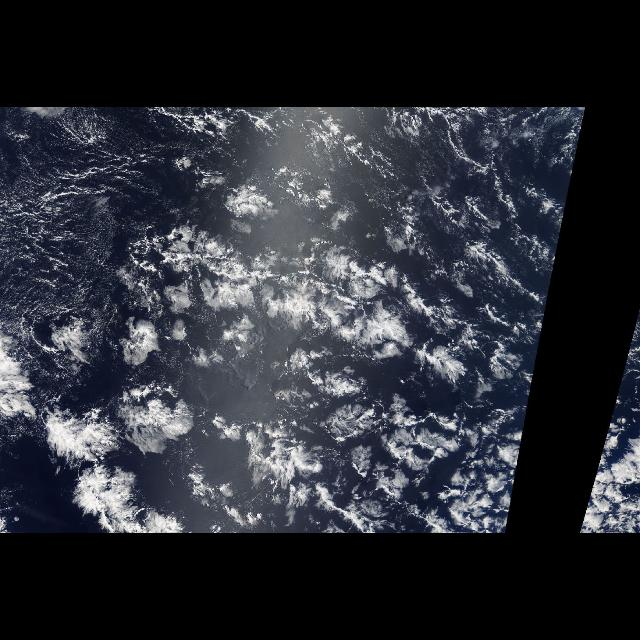Fish: (85, 220, 541, 504)
Flower: (27, 229, 539, 533)
Gravel: (13, 112, 155, 420)
